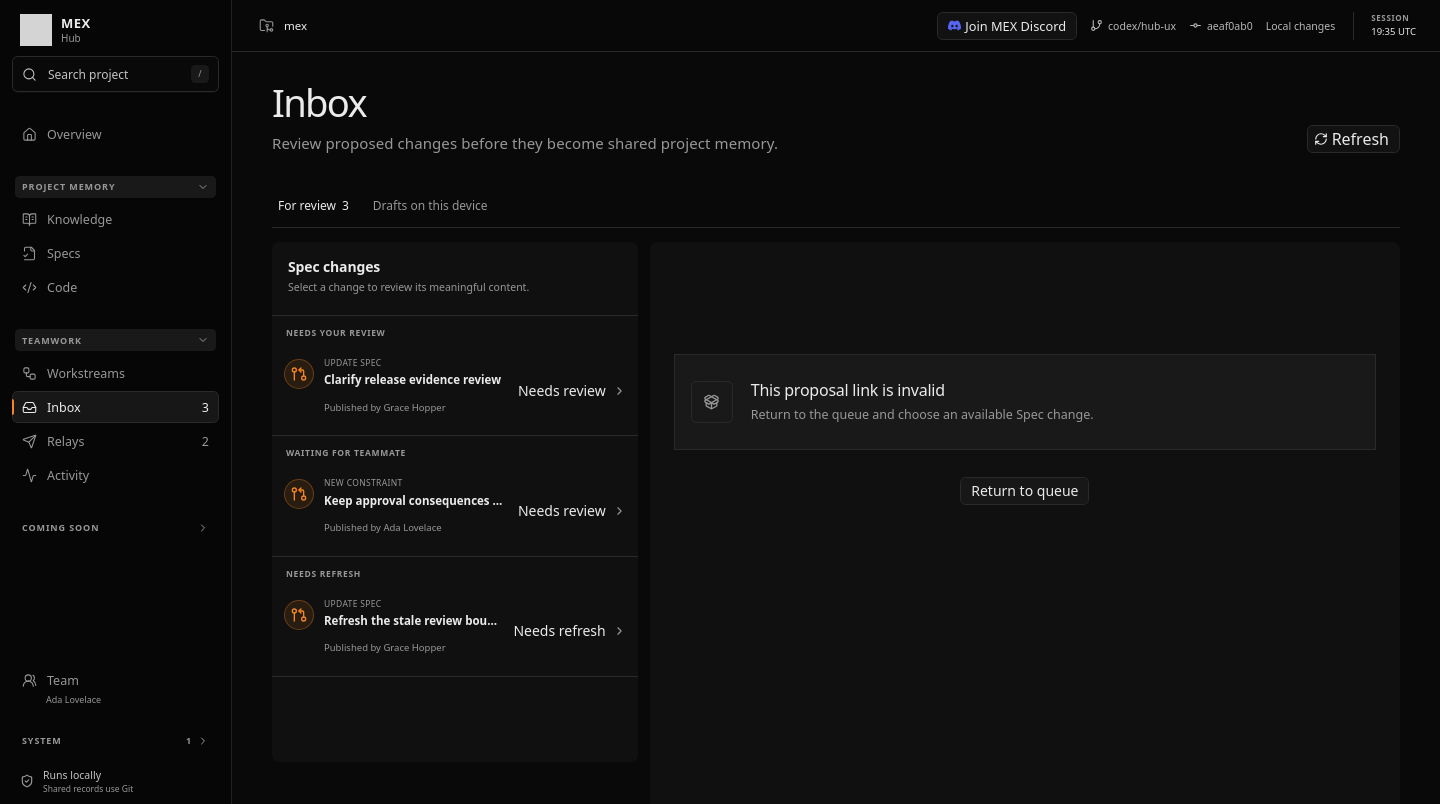
Inbox Spec-authoring workbench › rejects an invalid URL selection before the client read and recovers to the queue
The width and height of the screenshot is (1440, 804).
Check: the heading "This proposal link is invalid" is shown, box [751,379,945,401]
Click the button "Return to queue". click: x=1025, y=491
box: [960,477,1090,505]
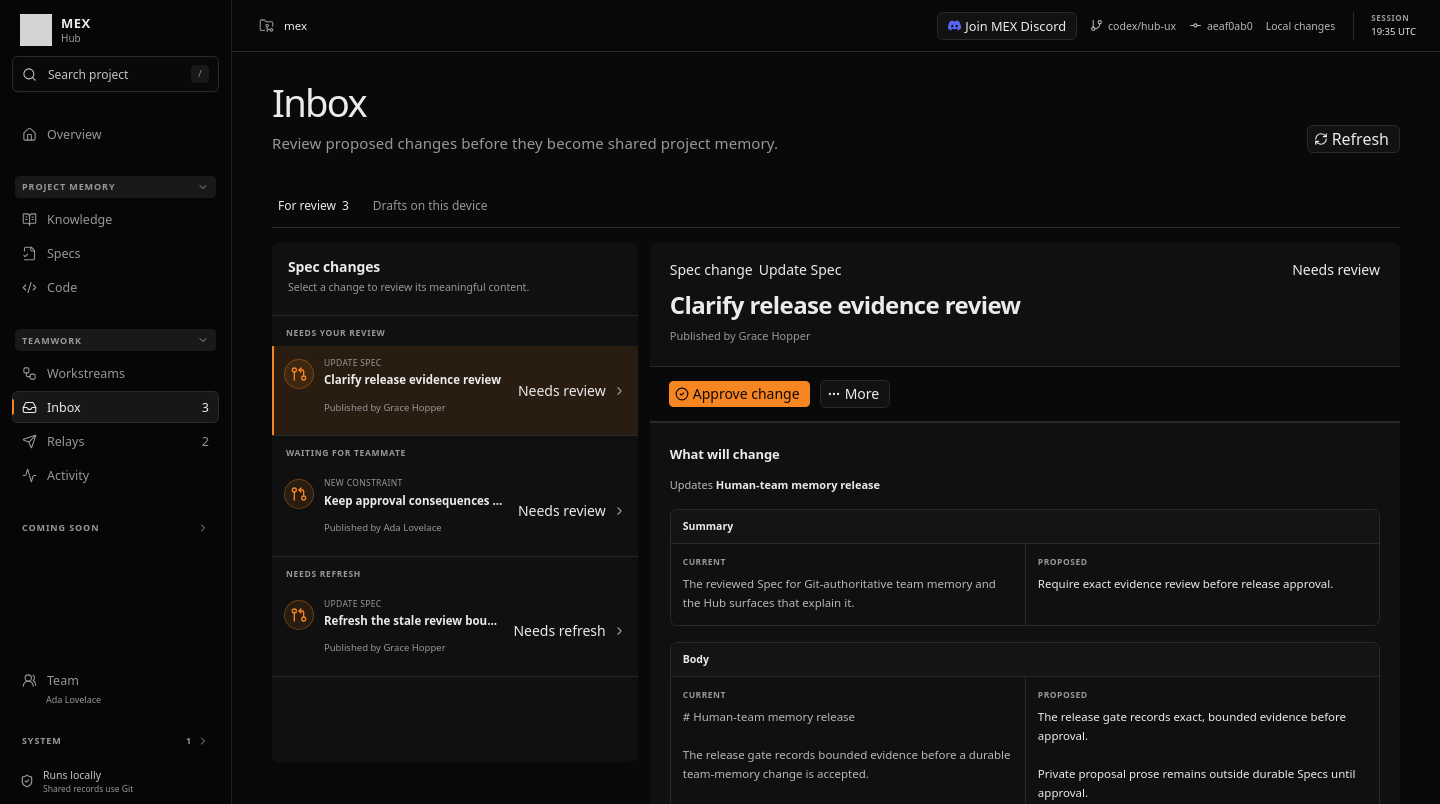
Check: the heading "Clarify release evidence review" is shown, box [670,288,1020,321]
